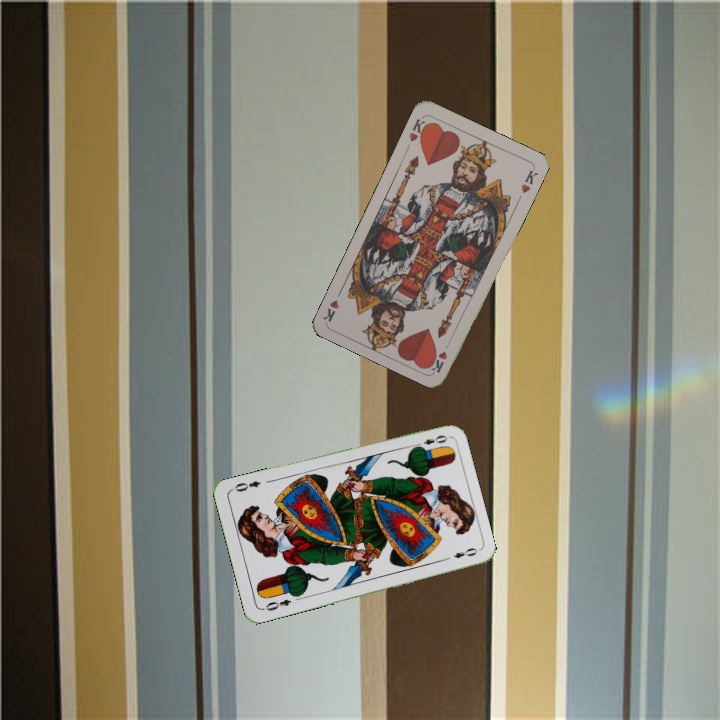EO: (410, 431, 450, 451), (258, 595, 294, 613)
HK: (428, 335, 453, 375), (405, 113, 431, 144)
